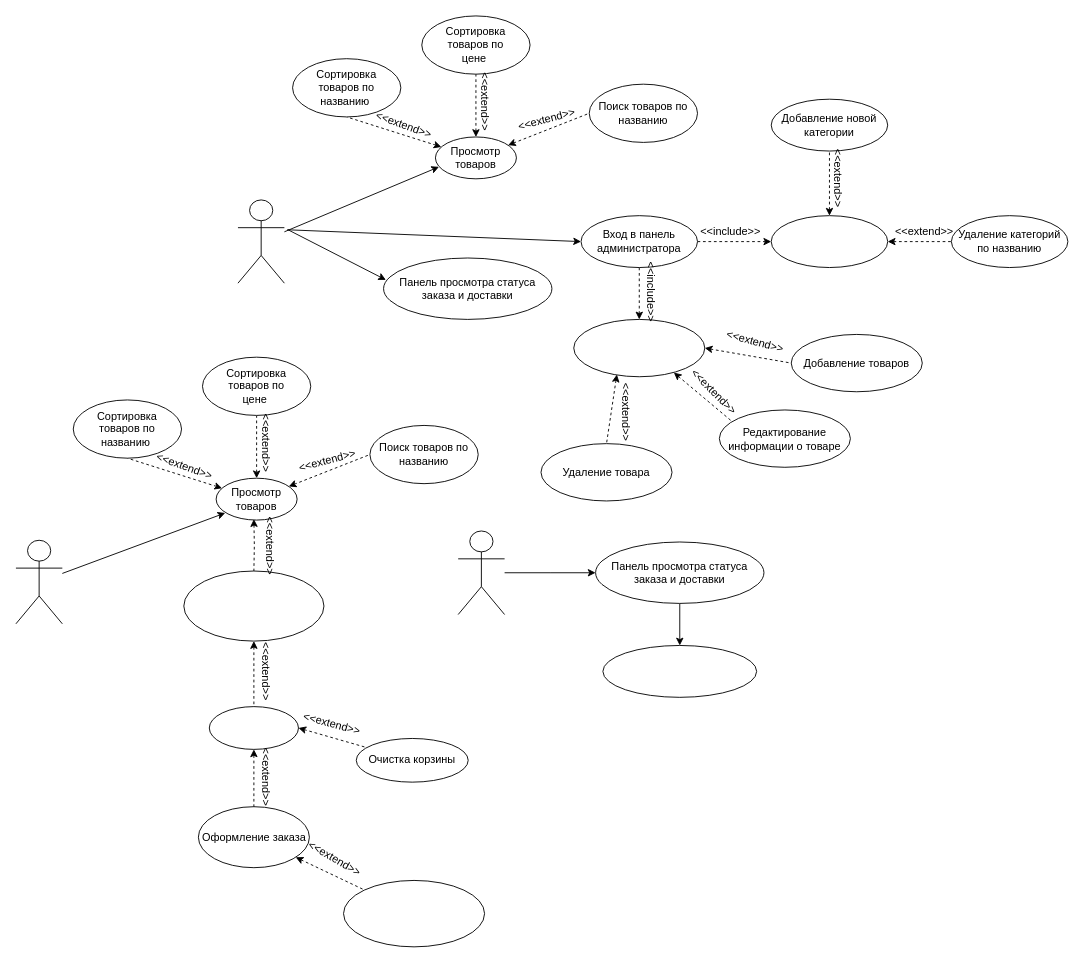
Some shapes in this 1084 by 963 pixel diagram are drawn without their labels. The shapes that lost their labels are listed below. From the top down, each one's box as (x1, y1, x2, y2) in pixels, then its label:
(237, 199, 284, 283): Админ
(770, 215, 888, 268): Панель категорий
(573, 318, 705, 377): Окно с товарами
(15, 539, 62, 624): Клиент
(457, 530, 505, 615): Курьер
(183, 570, 324, 641): Выбор необходимого количества товаров
(602, 645, 757, 697): Изменение статуса заказа (доставлен)
(208, 706, 298, 749): Корзина
(343, 880, 485, 947): Оставить отзыв о товаре
